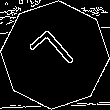L_SE: (27, 26, 83, 84)
